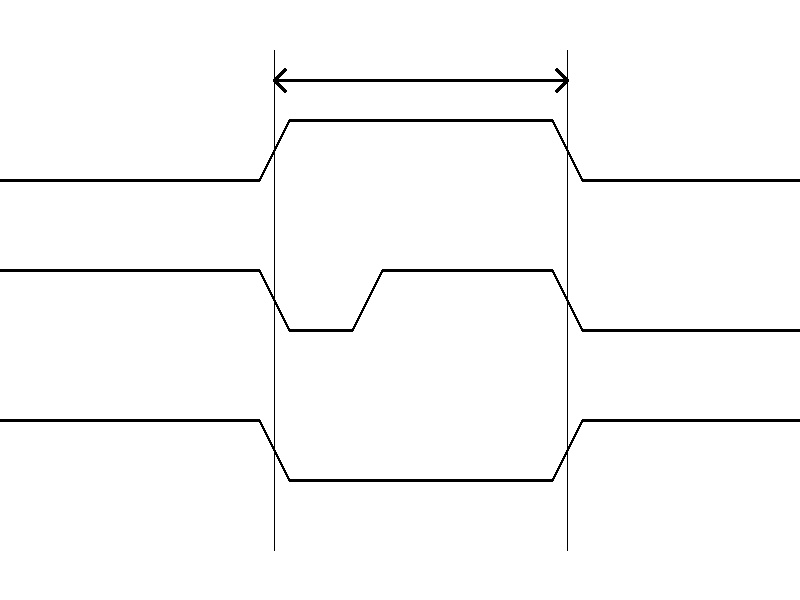double_arrow: (274, 65, 567, 95)
